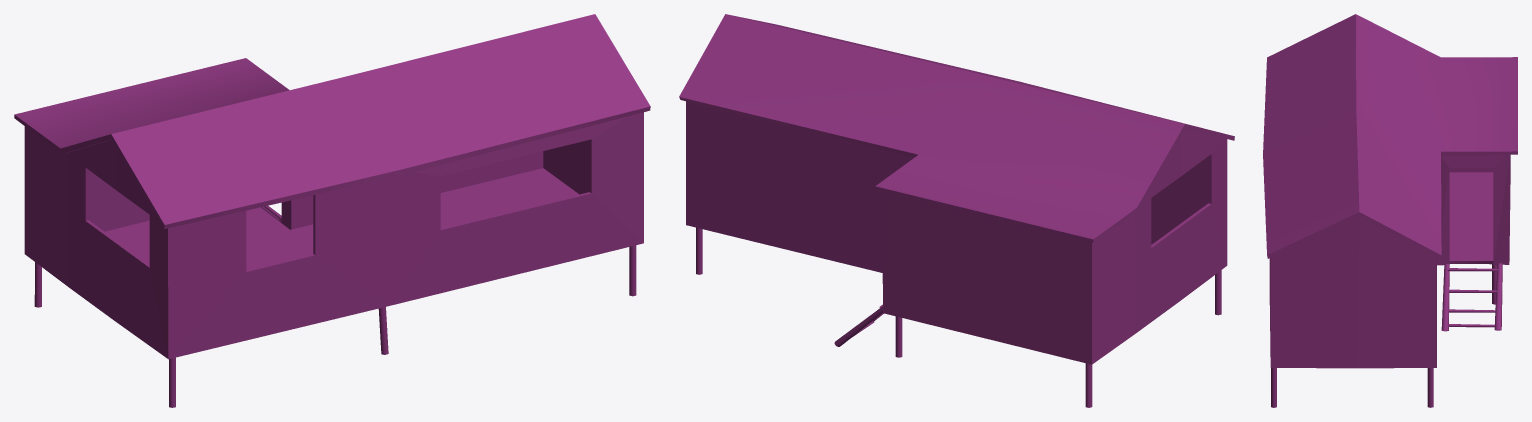
File: grande_maison_1970Z 1.fbx
The picture shows the model from 3 angles, left to right: view 1: azimuth 30°, elevation 25°; view 2: azimuth 150°, elevation 25°; view 3: azimuth 270°, elevation 25°; orthographic projection. The views are drawn at different scales.
Visible parts, largest first — view 1: grande maison; view 2: grande maison; view 3: grande maison.
Part boxes in pixels (left/top/right/bottom): grande maison: left=14, top=14, right=650, bottom=407; grande maison: left=679, top=14, right=1234, bottom=407; grande maison: left=1263, top=14, right=1517, bottom=407.
Bounding box in the file's own units: 456 × 218 × 248.
